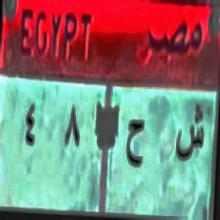4: (22, 99, 40, 157)
7aa: (124, 115, 146, 175)
8: (63, 104, 82, 159)
sheen: (172, 98, 207, 166)
